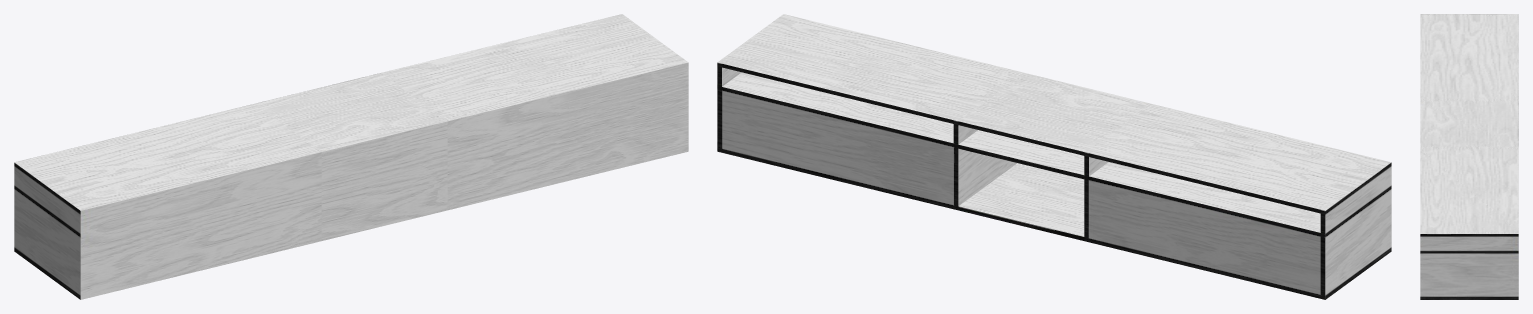
Rendered from M_RakTV.fbx.
The picture shows the model from 3 angles, left to right: view 1: azimuth 30°, elevation 25°; view 2: azimuth 150°, elevation 25°; view 3: azimuth 270°, elevation 25°; orthographic projection. The views are drawn at different scales.
Visible parts, largest first — view 1: CabinetTV; view 2: CabinetTV; view 3: CabinetTV.
Boxes of the visible parts, x1,y1,x2,y2 form: CabinetTV: (14,14,688,299); CabinetTV: (717,14,1391,299); CabinetTV: (1420,14,1518,299).
Bounding box in the file's own units: 401 × 56.06 × 75.7.
